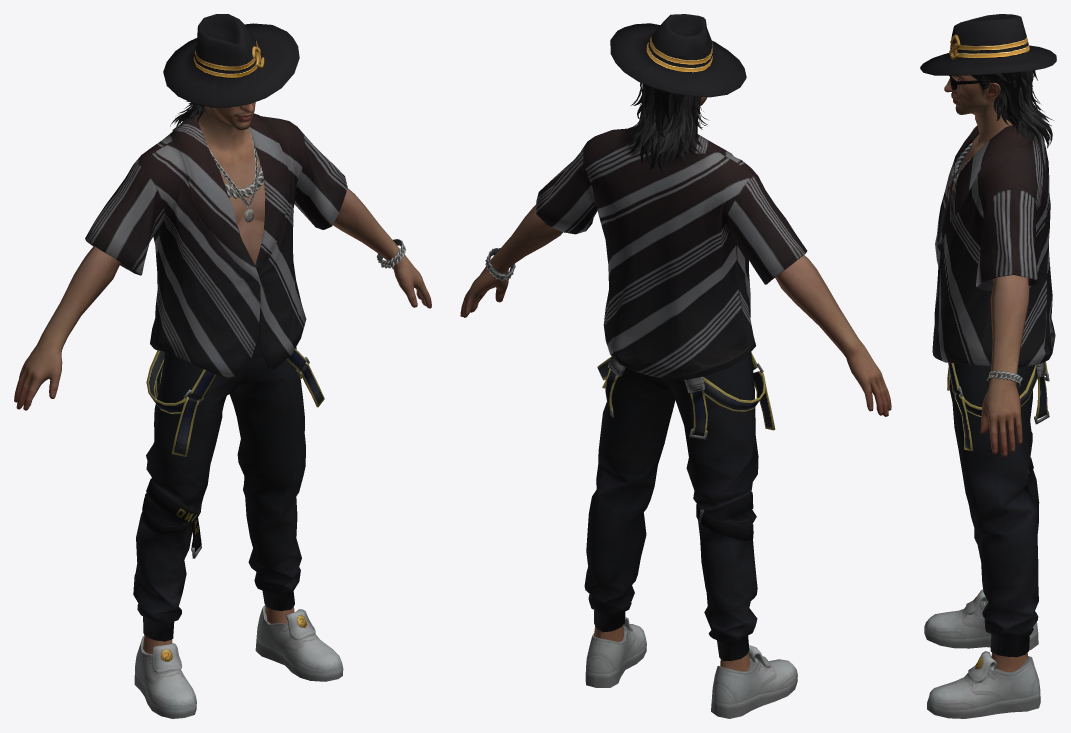
The model's file is stachfedora.fbx.
The picture shows the model from 3 angles, left to right: view 1: azimuth 30°, elevation 25°; view 2: azimuth 150°, elevation 25°; view 3: azimuth 270°, elevation 25°; orthographic projection.
Parts seen in each view (by area): view 1: Object_6, Object_5, Object_3, Object_2, Object_4; view 2: Object_6, Object_5, Object_3, Object_2, Object_4, Object_7; view 3: Object_6, Object_5, Object_3, Object_4, Object_2, Object_7.
Part boxes in pixels (bbox=[...]): Object_6: bbox=[85, 113, 405, 377]; Object_5: bbox=[133, 338, 324, 641]; Object_3: bbox=[14, 102, 431, 653]; Object_2: bbox=[163, 14, 299, 107]; Object_4: bbox=[134, 605, 343, 718]; Object_6: bbox=[485, 126, 807, 379]; Object_5: bbox=[584, 352, 775, 660]; Object_3: bbox=[460, 97, 891, 671]; Object_2: bbox=[610, 14, 746, 97]; Object_4: bbox=[585, 617, 797, 718]; Object_7: bbox=[624, 82, 708, 171]; Object_6: bbox=[932, 125, 1055, 386]; Object_5: bbox=[947, 361, 1049, 657]; Object_3: bbox=[944, 75, 1029, 672]; Object_4: bbox=[924, 589, 1040, 718]; Object_2: bbox=[920, 14, 1056, 75]; Object_7: bbox=[972, 70, 1053, 148].
Bounding box in the file's own units: 397 × 601 × 113.
7 materials, 7 textured.
